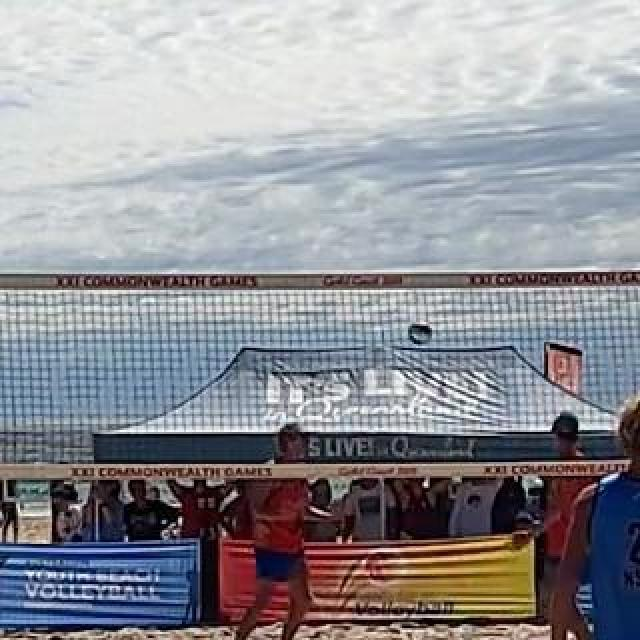volleyball: (410, 322, 432, 344)
